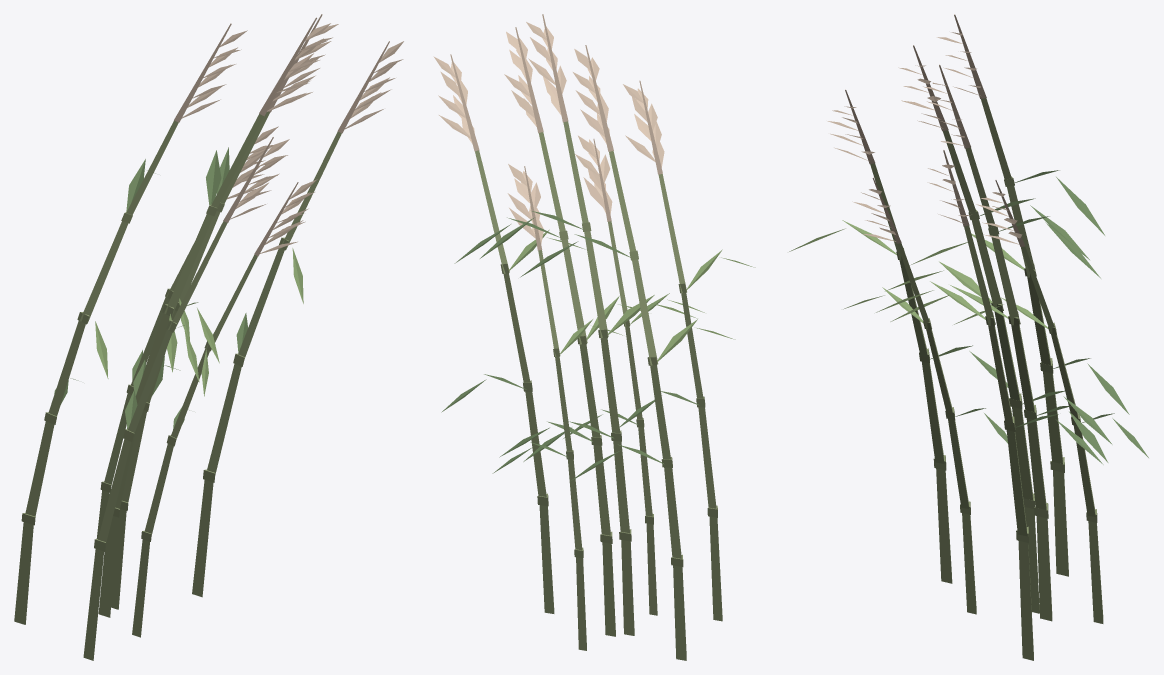
Rendered from shui.luweicong__summer.glb.
3 views of the same model, side by side, from view 1: azimuth 30°, elevation 25°; view 2: azimuth 150°, elevation 25°; view 3: azimuth 270°, elevation 25° (orthographic). The views are drawn at different scales.
Parts seen in each view (by area): view 1: shui.luweicong__summer; view 2: shui.luweicong__summer; view 3: shui.luweicong__summer.
Boxes of the visible parts, box(x1,y1,x2,y2) form: shui.luweicong__summer: box(14, 14, 403, 660); shui.luweicong__summer: box(433, 14, 755, 660); shui.luweicong__summer: box(789, 14, 1148, 660).
Size of the model in its own units: 2.03 by 3.49 by 1.78.
